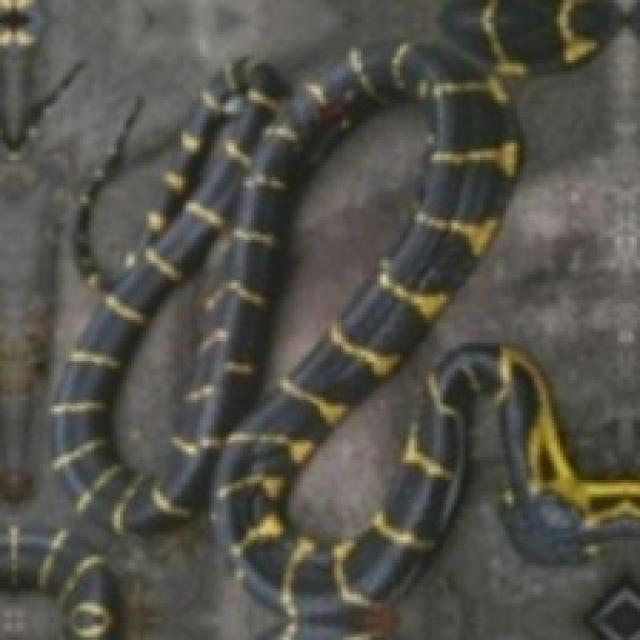mangrove cat snake: (50, 46, 640, 618), (440, 0, 640, 76), (0, 525, 121, 640), (75, 100, 141, 281)
